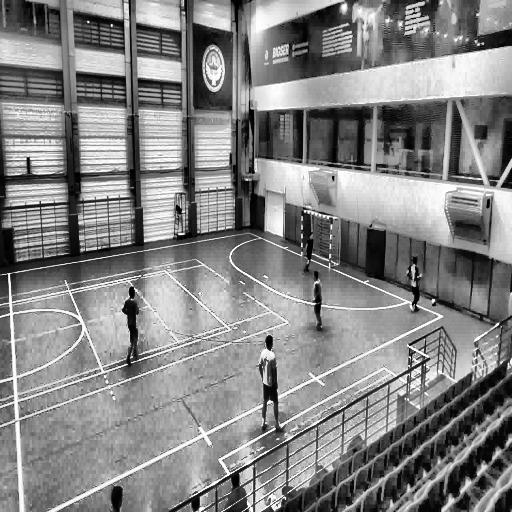ball: (431, 297, 436, 306)
player: (260, 336, 287, 432), (121, 284, 139, 366), (405, 256, 419, 311), (313, 270, 323, 330), (303, 232, 313, 272)
